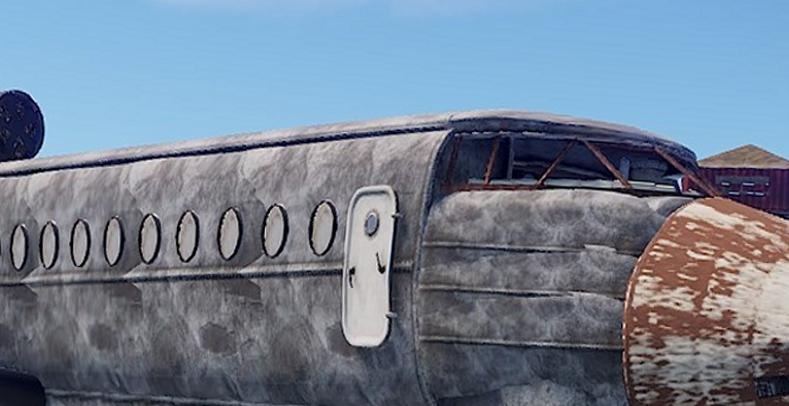rust: (629, 260, 749, 342), (665, 194, 788, 258), (626, 355, 685, 403)
